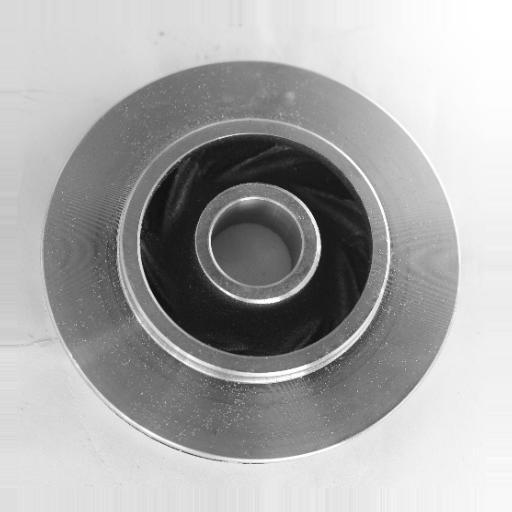polished_casting: (44, 59, 461, 467)
